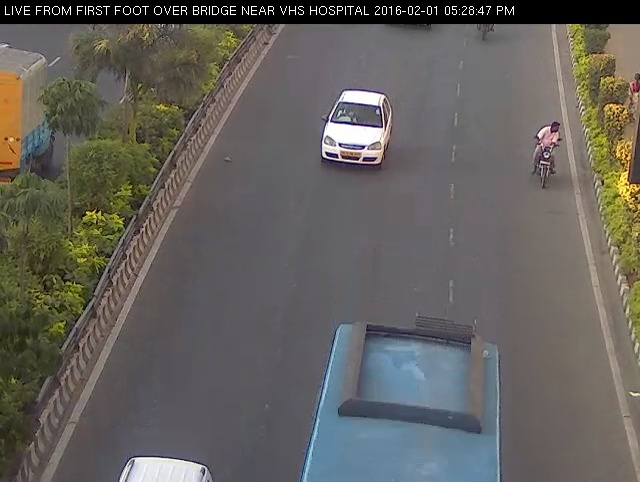Bus: (291, 302, 518, 481)
Car: (315, 76, 400, 183), (101, 447, 218, 482)
Person: (527, 114, 566, 195)
